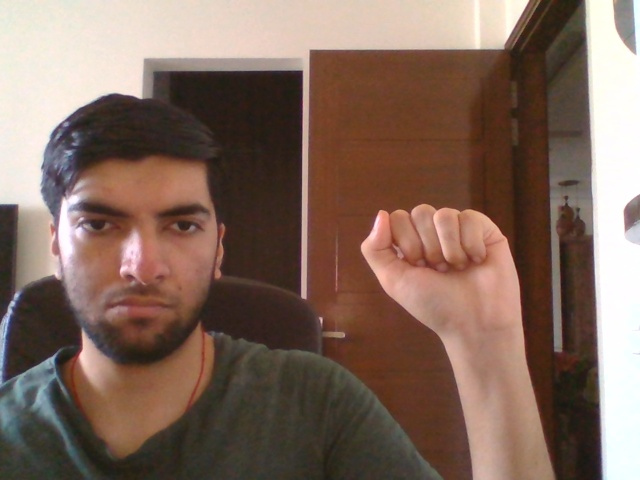LetterA: (358, 202, 526, 342)
